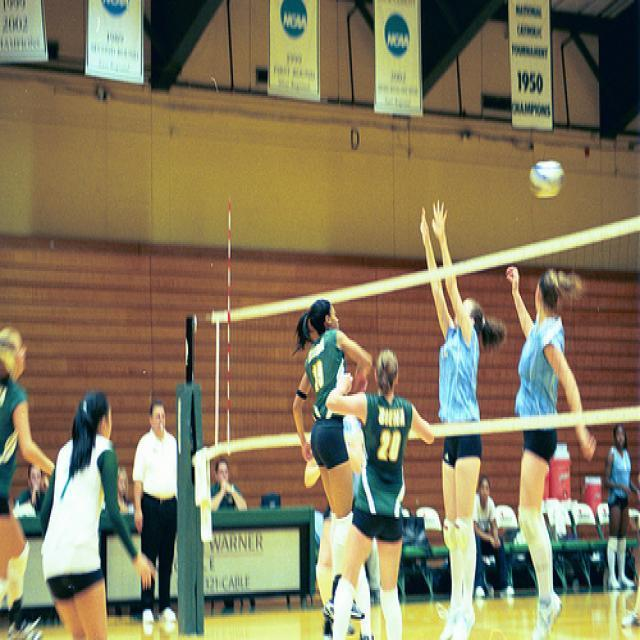volleyball: (528, 160, 564, 197)
